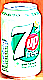sevenup: (2, 2, 42, 79)
